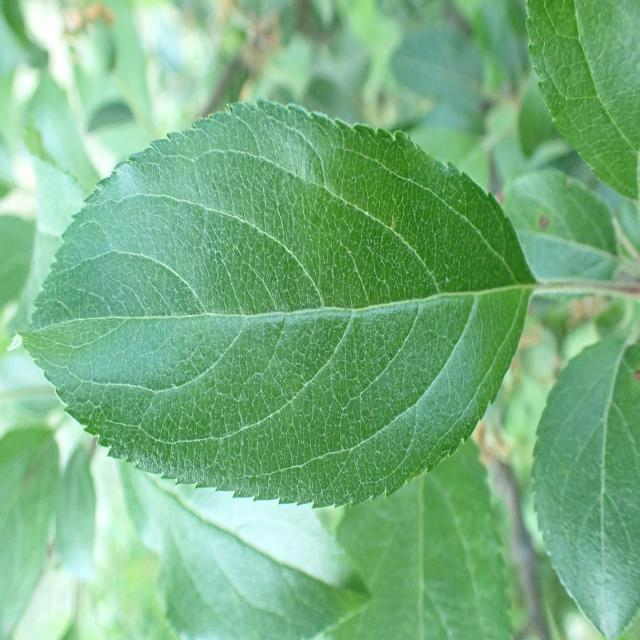healthy: (10, 99, 537, 512), (324, 437, 513, 640), (144, 474, 372, 640), (530, 334, 640, 637), (524, 0, 640, 202), (501, 169, 619, 285)
